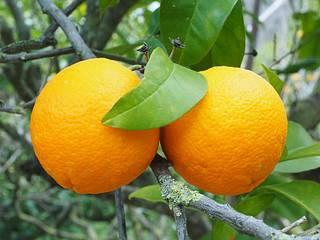non-mango: (29, 56, 160, 194), (159, 64, 288, 196)
